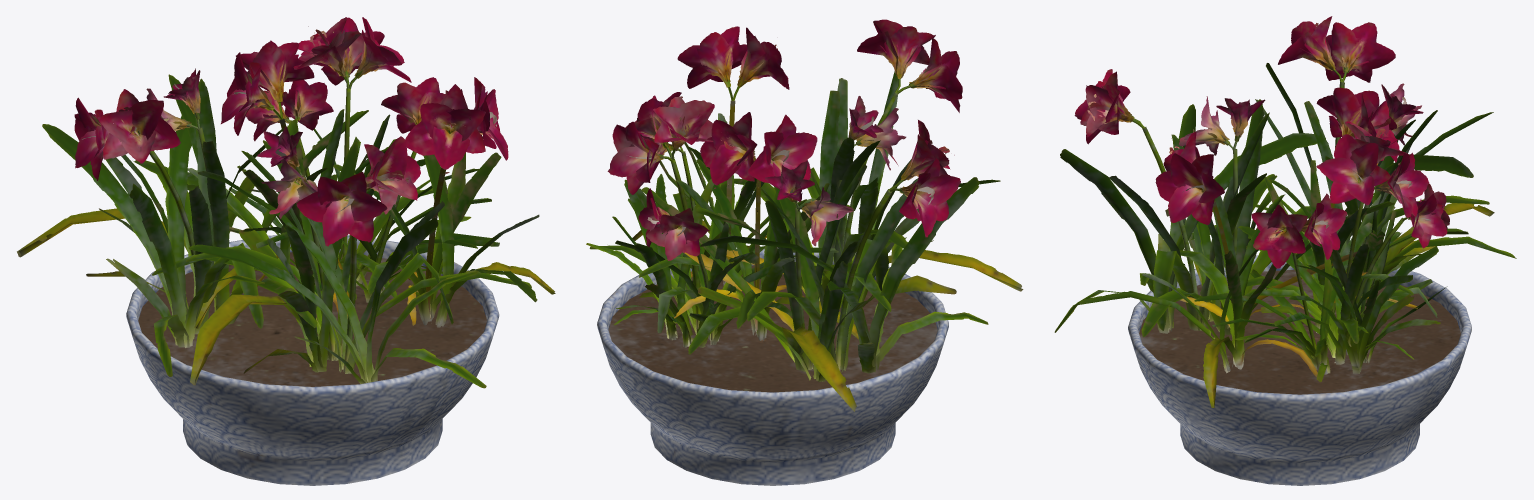
File: SM_Flowerpot_02.fbx
3 views of the same model, side by side, from view 1: azimuth 30°, elevation 25°; view 2: azimuth 150°, elevation 25°; view 3: azimuth 270°, elevation 25° (orthographic). The views are drawn at different scales.
Parts seen in each view (by area): view 1: SM_Flowerpot_02_LOD0; view 2: SM_Flowerpot_02_LOD0; view 3: SM_Flowerpot_02_LOD0.
Boxes of the visible parts, box(x1,y1,x2,y2) form: SM_Flowerpot_02_LOD0: box(17, 17, 555, 485); SM_Flowerpot_02_LOD0: box(586, 19, 1023, 485); SM_Flowerpot_02_LOD0: box(1054, 16, 1516, 485).
Size of the model in its own units: 46.32 by 49.76 by 40.81.
